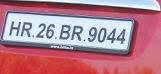0: (97, 27, 107, 43)
2: (36, 23, 46, 39)
4: (106, 28, 117, 44), (116, 29, 127, 45)
6: (46, 23, 55, 39)
9: (87, 26, 97, 42)
B: (60, 24, 71, 40)
H: (8, 20, 21, 37)
R: (71, 25, 83, 42), (21, 22, 32, 38)
